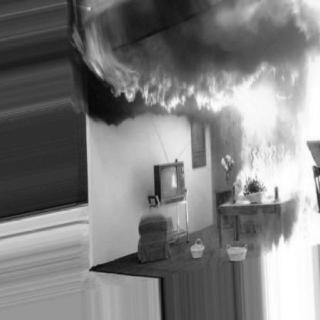Fire: (77, 6, 314, 192), (271, 189, 317, 245)
